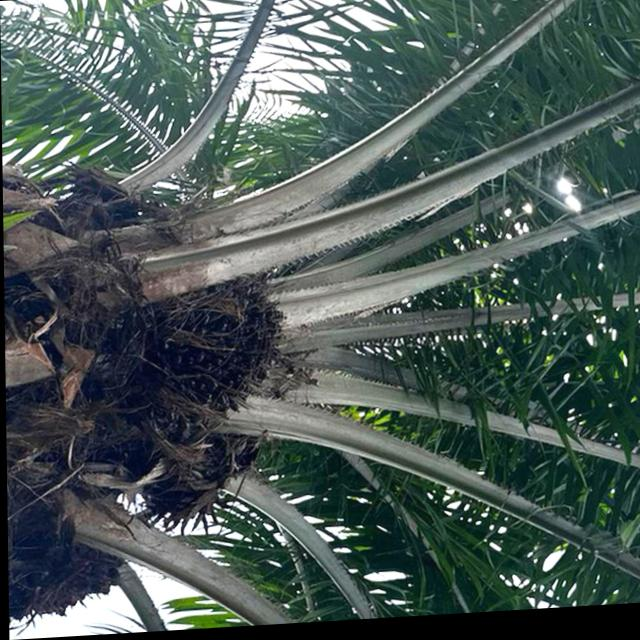almost: (137, 271, 301, 428), (11, 520, 137, 626)
